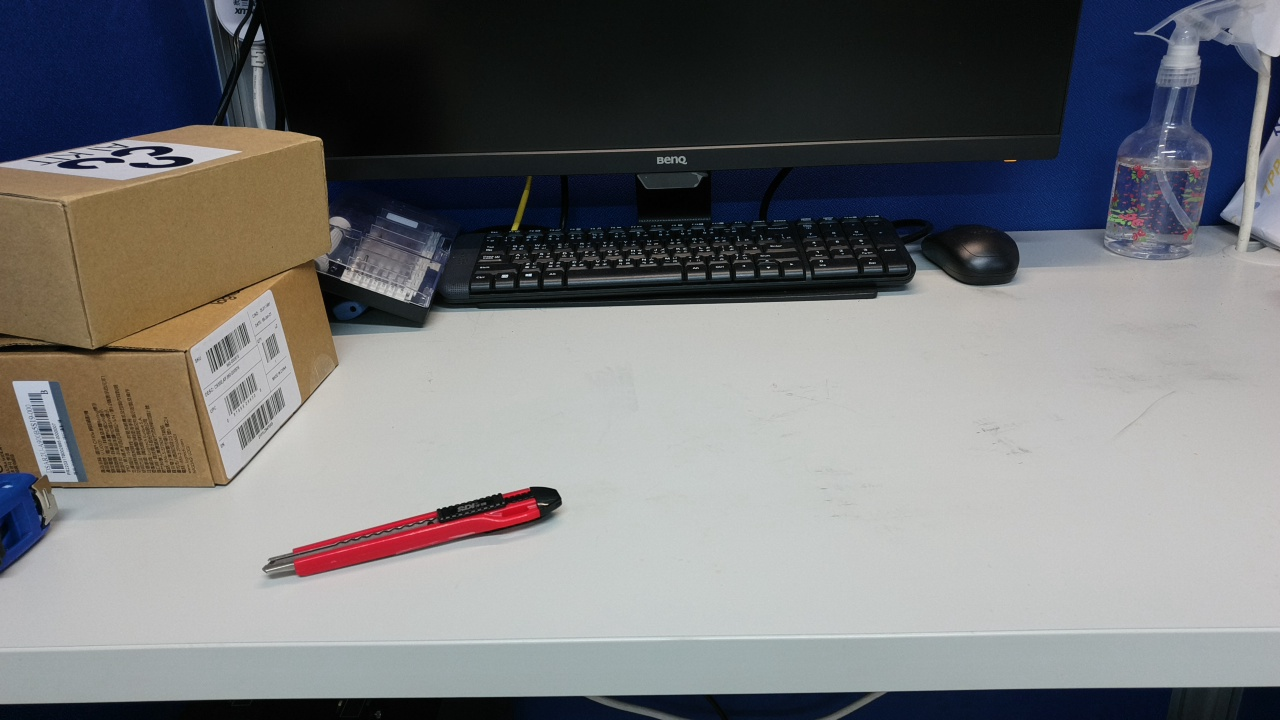columnar: (427, 202, 668, 589)
